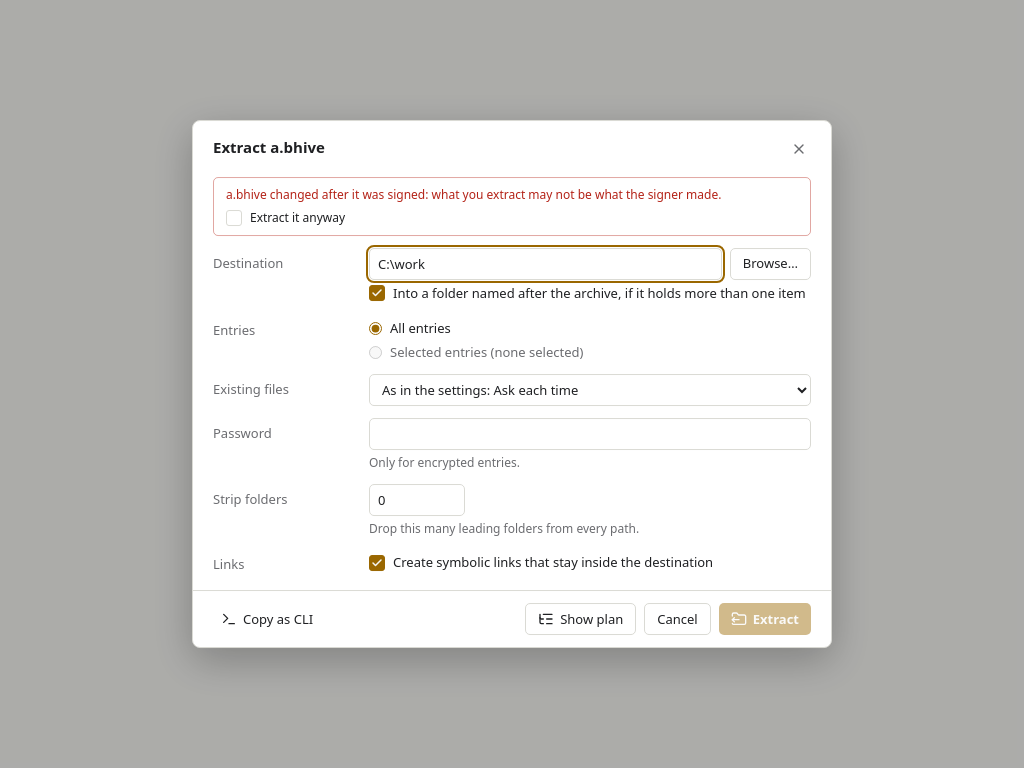
Test case: extracting an archive that changed after it was signed (decision 26) › asks first
Expected: the message shows "changed after it was signed", [267,186,721,203]
Expected: the button "Extract" is disabled, [719,603,811,635]
Click the text "Extract it anyway".
click(298, 218)  # box [250,209,345,227]
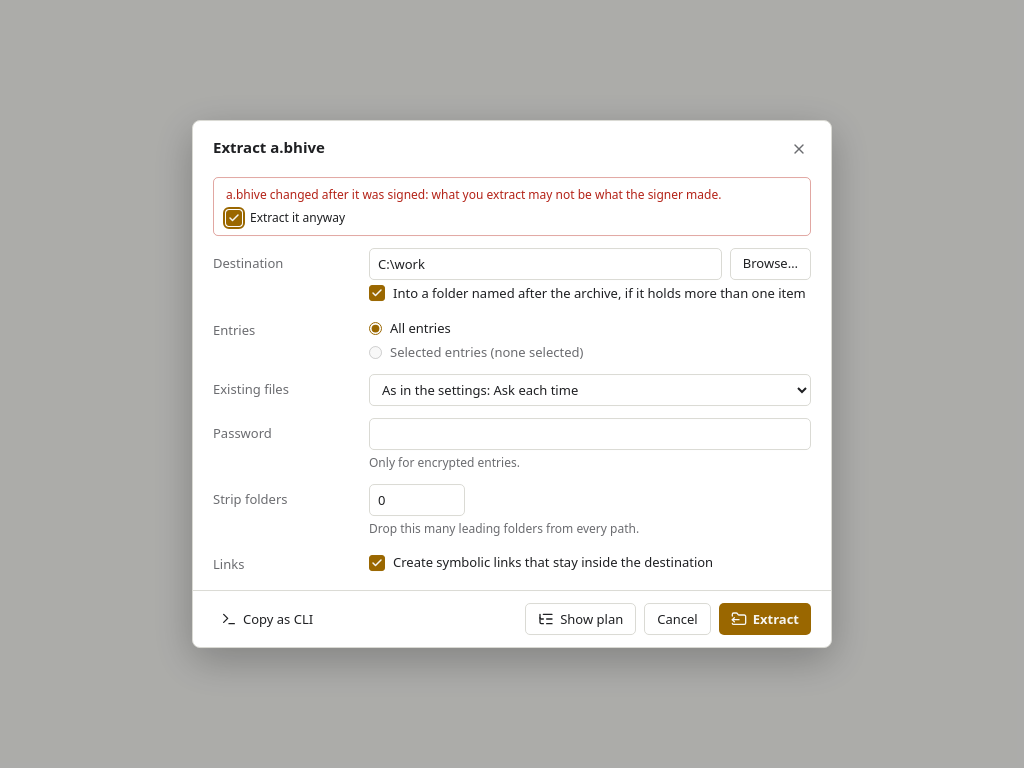
Now the button "Extract" is enabled, box [719,603,811,635]
